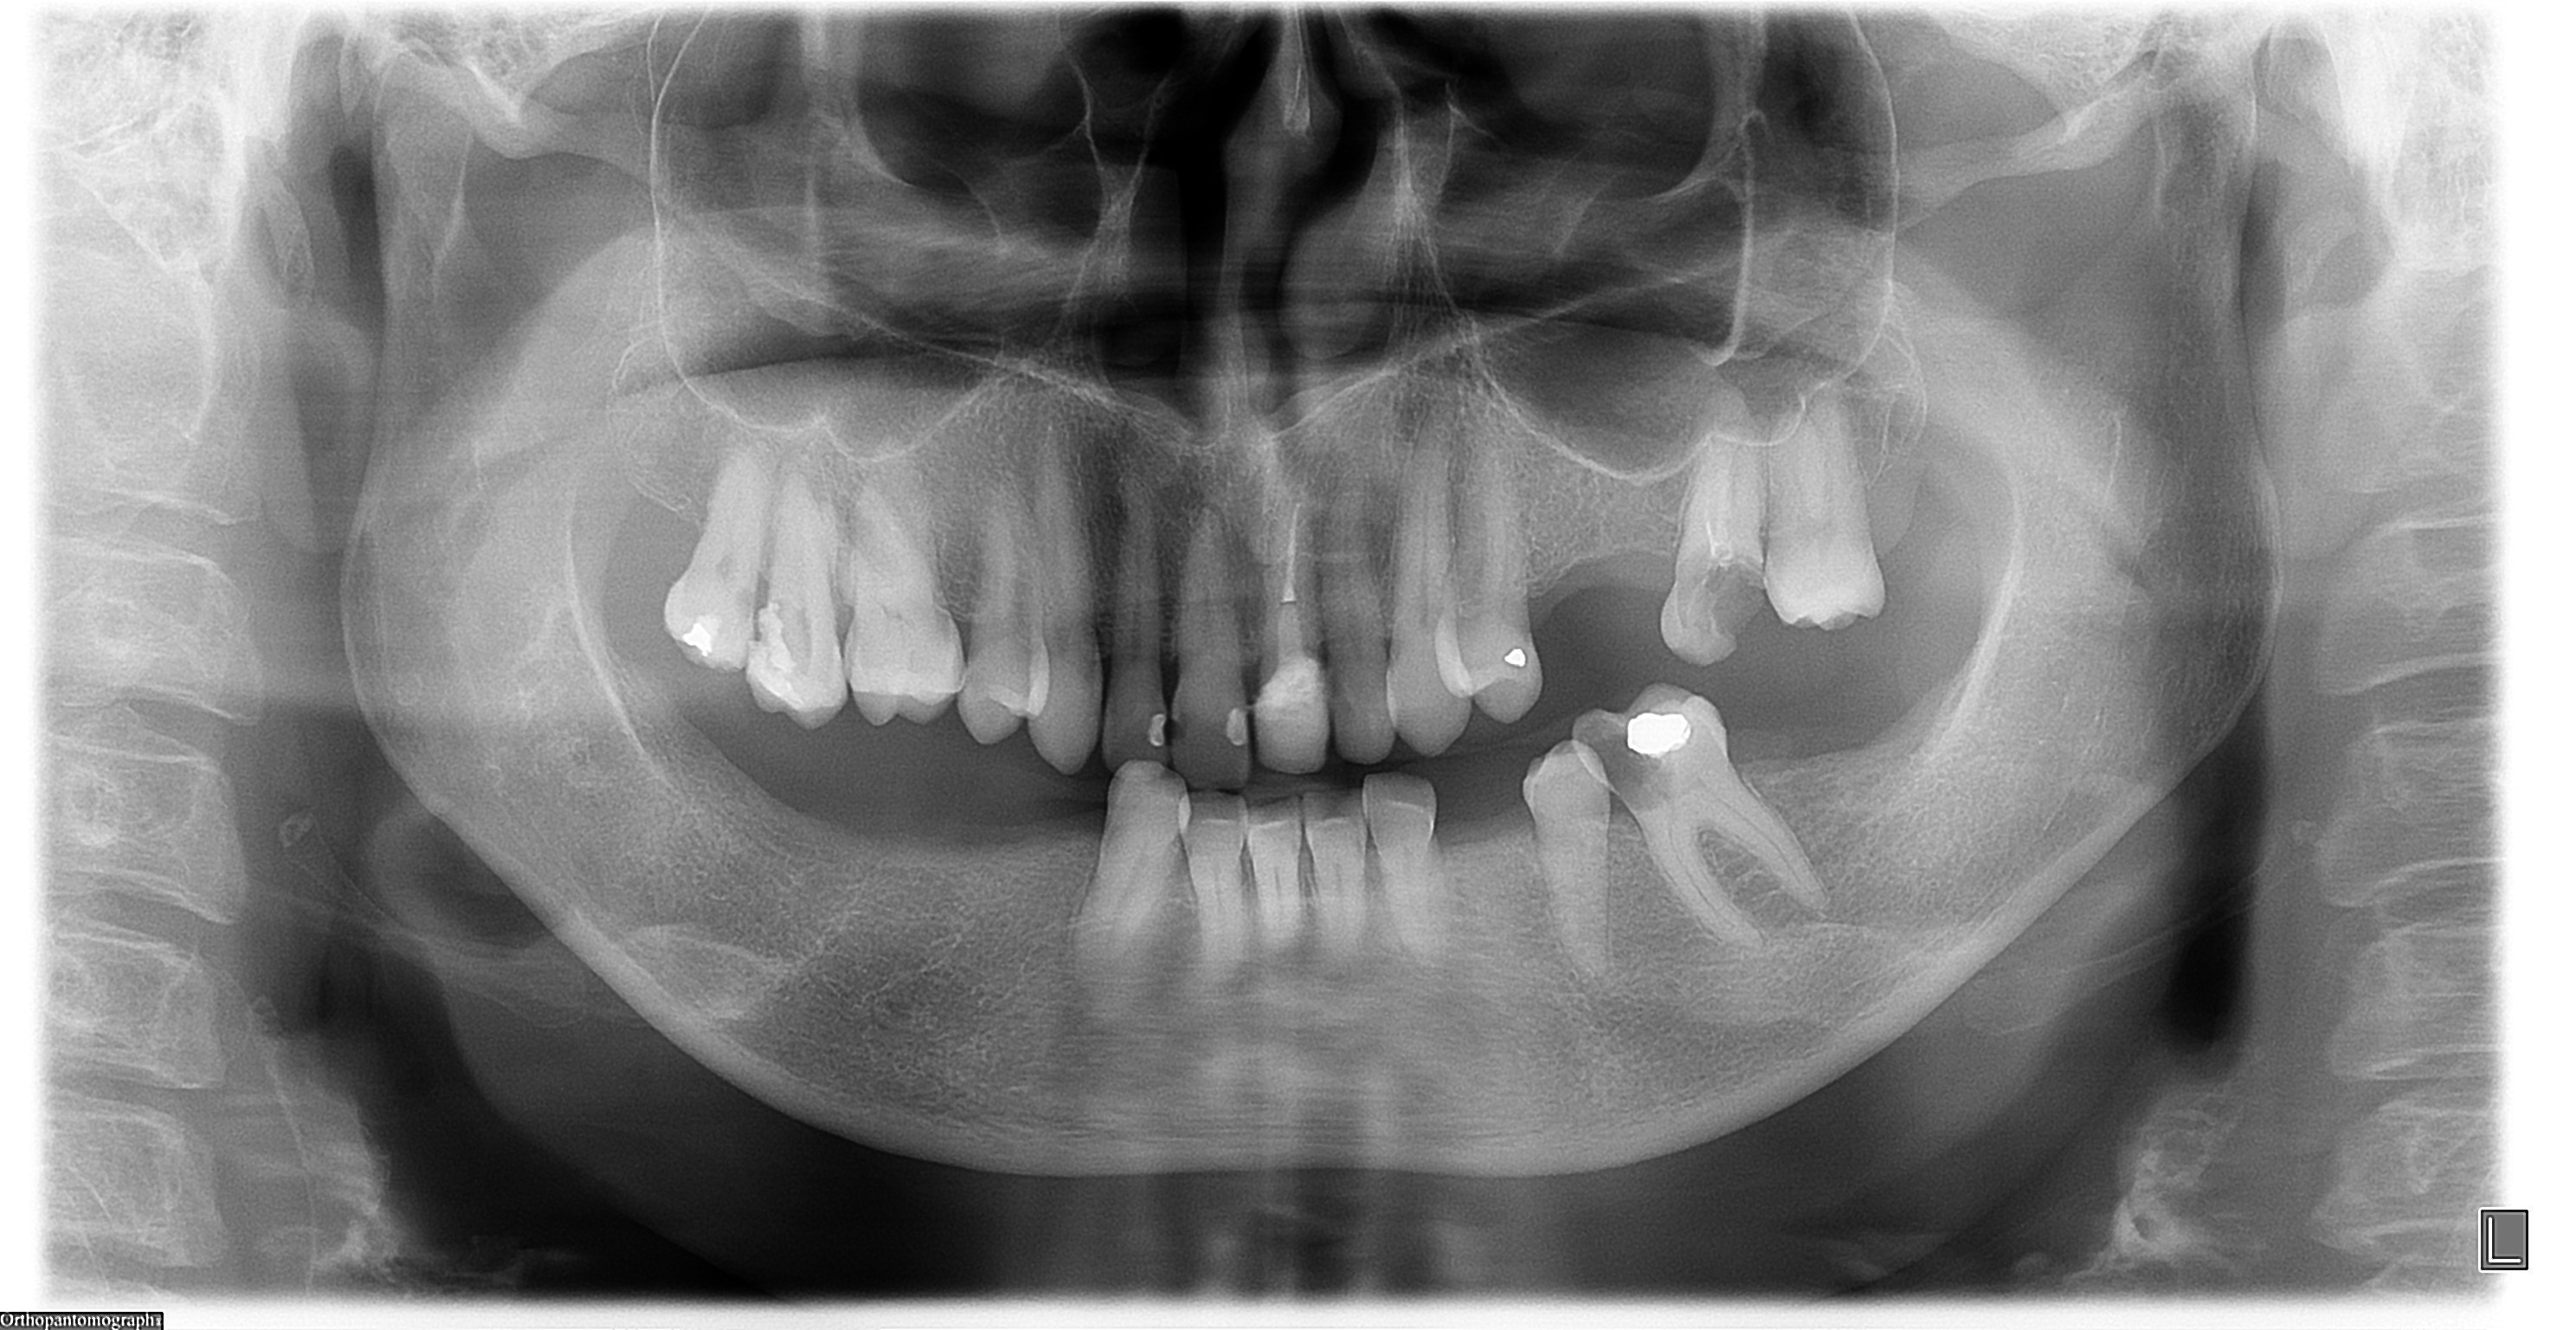CAR: (1692, 556, 1765, 646)
END: (1277, 502, 1304, 663)
OBT: (682, 612, 719, 657)
